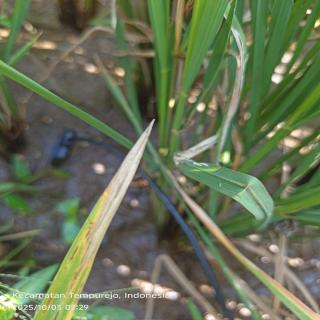Hawar-Daun: (67, 122, 153, 292)
